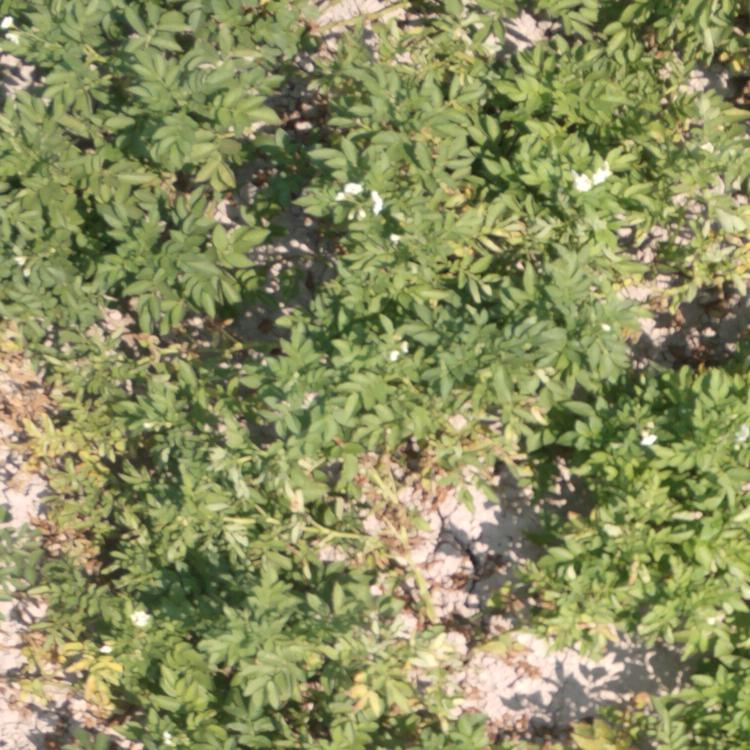healthy: (286, 1, 740, 292), (513, 299, 748, 750), (2, 1, 278, 299), (163, 485, 463, 750), (105, 303, 496, 480)
stressed: (1, 499, 156, 750), (9, 307, 101, 488)
